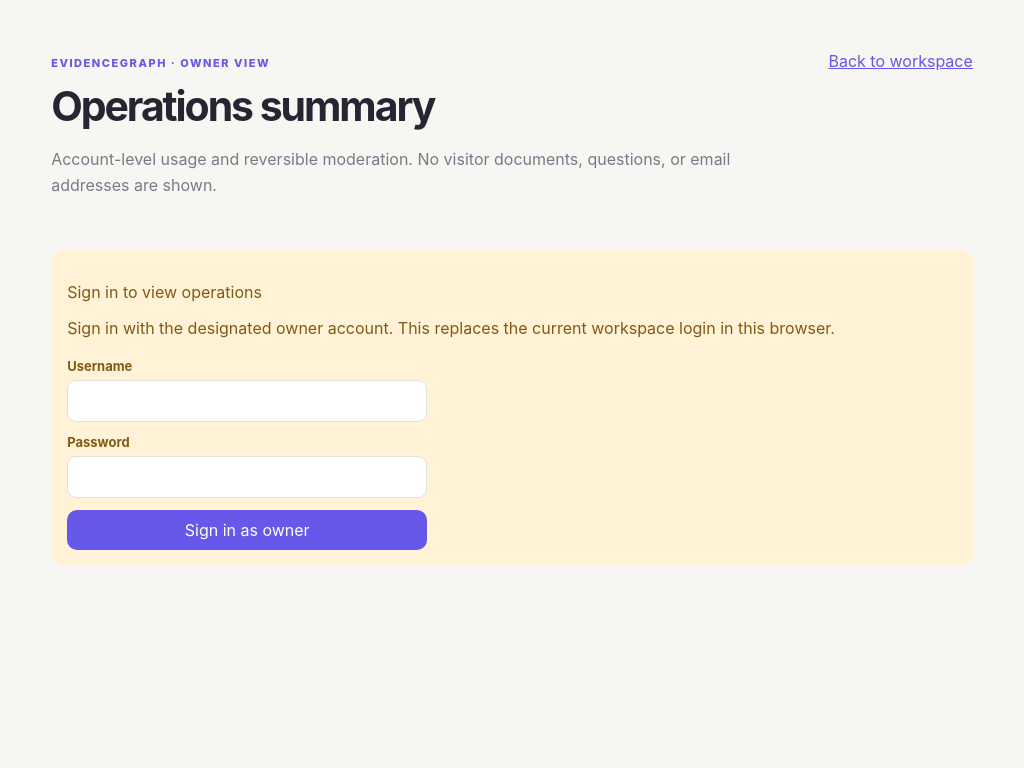
it: offers a direct login form and loads the dashboard after owner sign-in
The width and height of the screenshot is (1024, 768).
Expected: the button "Sign in as owner" is shown, [67,510,427,550]
Type "don" into the field labelled "Username" at [247, 401], box [67,380,427,422]
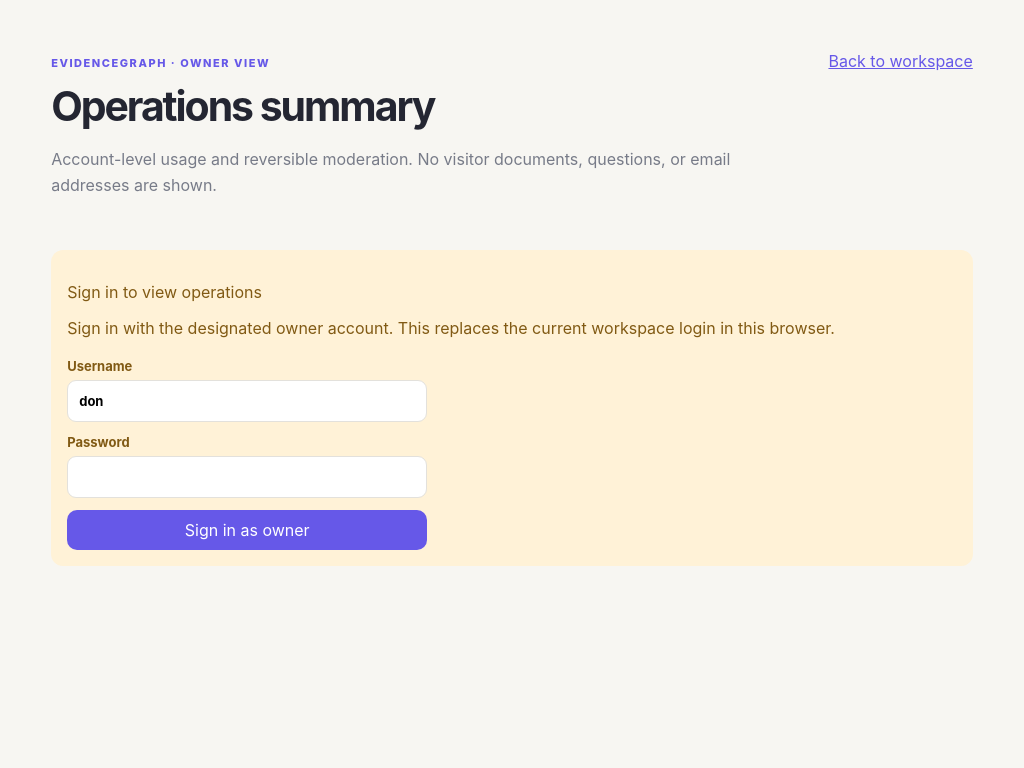
Type "owner-test-password" into the password field labelled "Password" at [247, 477], box [67,456,427,498]
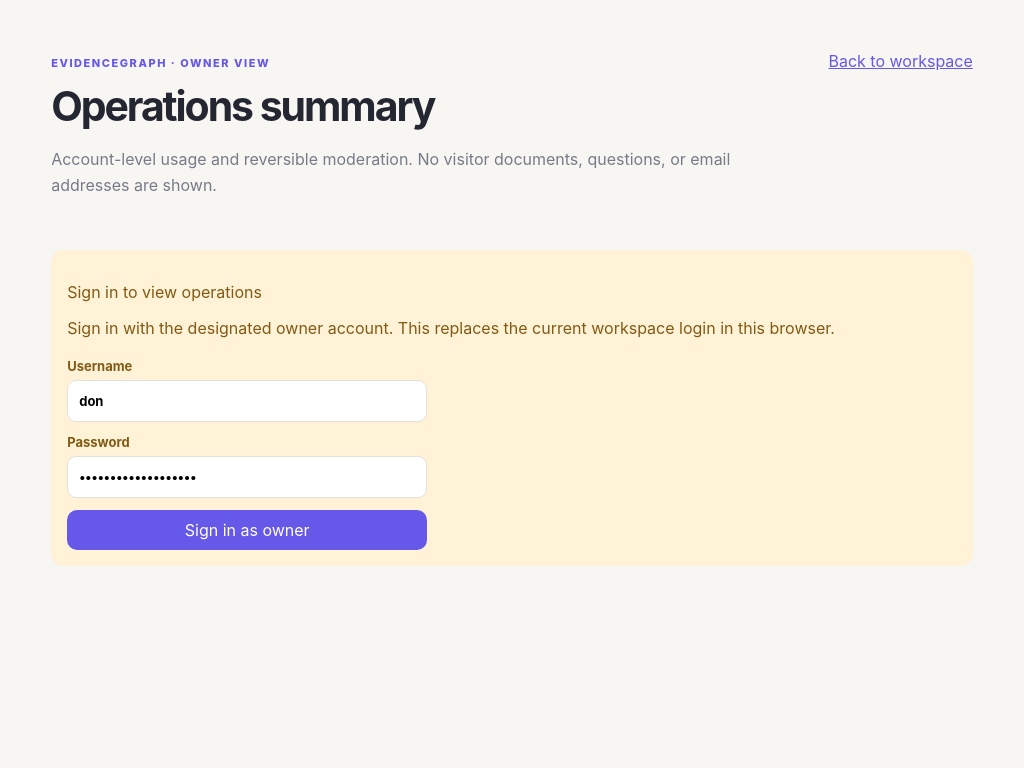
Click the button "Sign in as owner" at [247, 530], box [67,510,427,550]
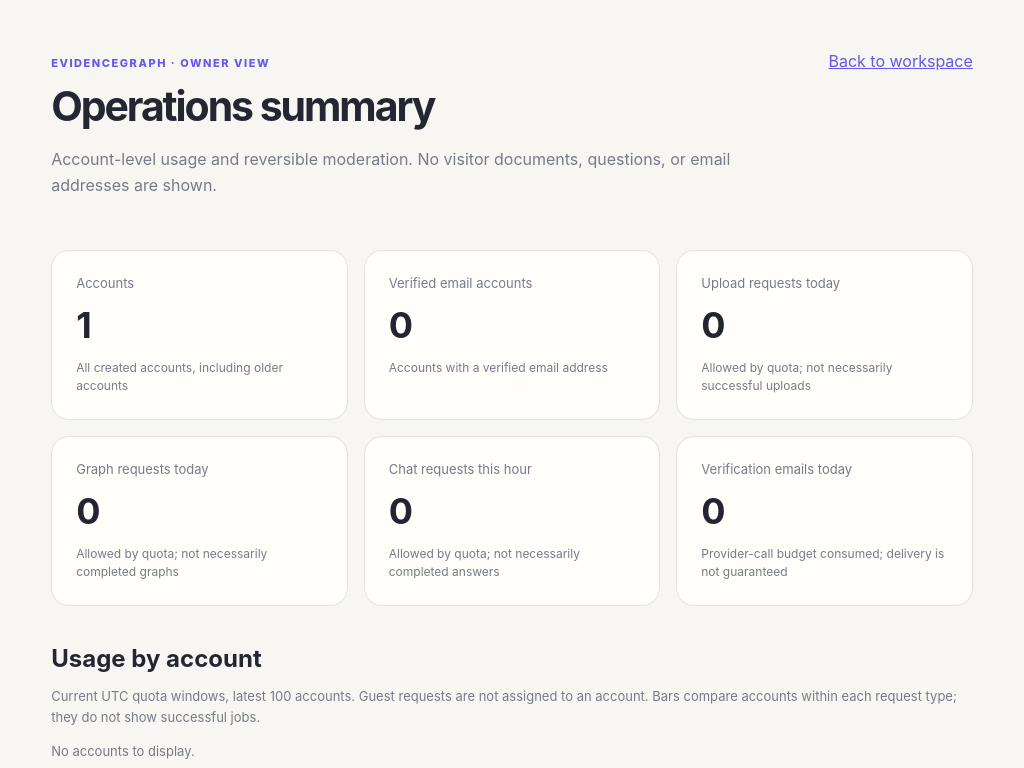
Expected: the heading "Usage by account" is shown, [51,644,262,673]
Expected: the label labelled "Password" is gone
